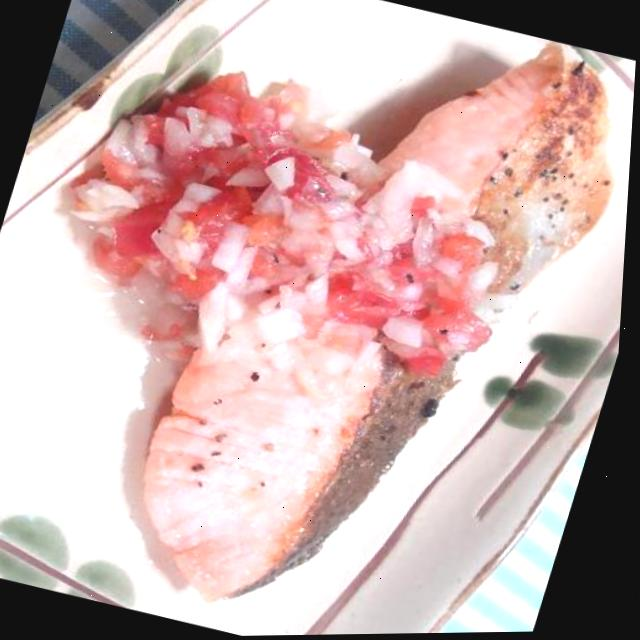熟制海鲜: (103, 0, 640, 638)
